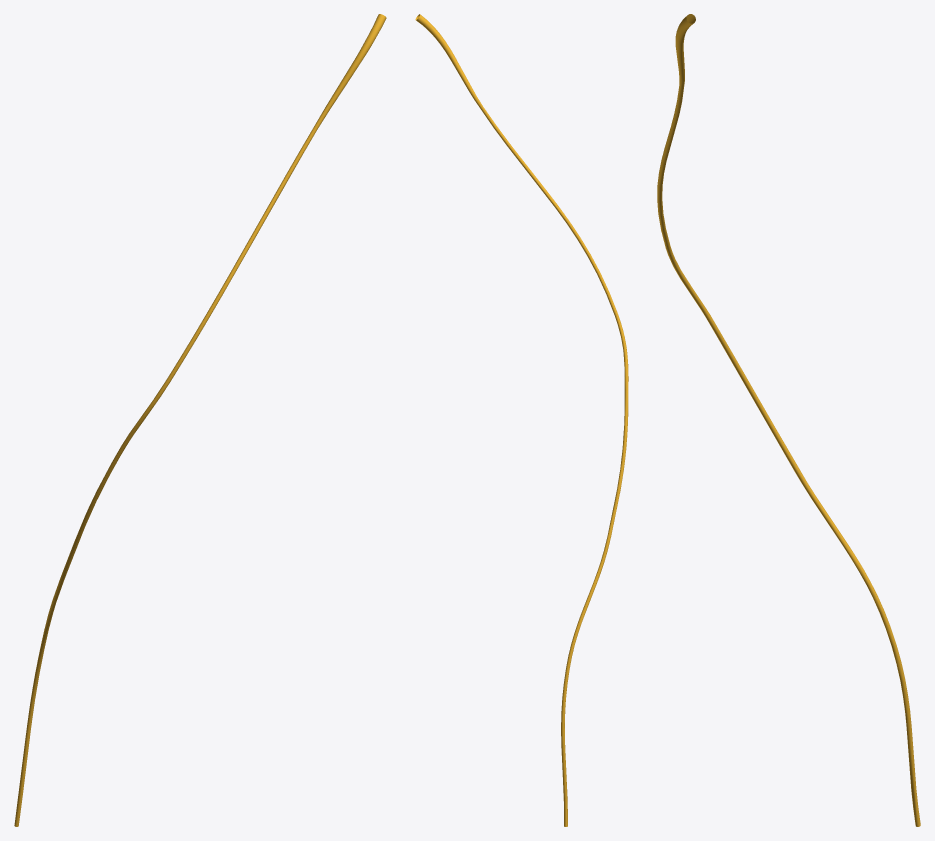
The model's file is nervoso-medial-brachial-cutaneous-nerve-r.glb.
3 renders of one model, left to right at view 1: azimuth 30°, elevation 25°; view 2: azimuth 150°, elevation 25°; view 3: azimuth 270°, elevation 25°, orthographic. The views are drawn at different scales.
Visible parts, largest first — view 1: Medial brachial cutaneous nerve.r; view 2: Medial brachial cutaneous nerve.r; view 3: Medial brachial cutaneous nerve.r.
Part boxes in pixels (left/top/right/bottom): Medial brachial cutaneous nerve.r: left=14, top=14, right=386, bottom=826; Medial brachial cutaneous nerve.r: left=415, top=14, right=628, bottom=826; Medial brachial cutaneous nerve.r: left=657, top=14, right=920, bottom=826.
Size of the model in its own units: 0.0715 by 0.2033 by 0.0503.
